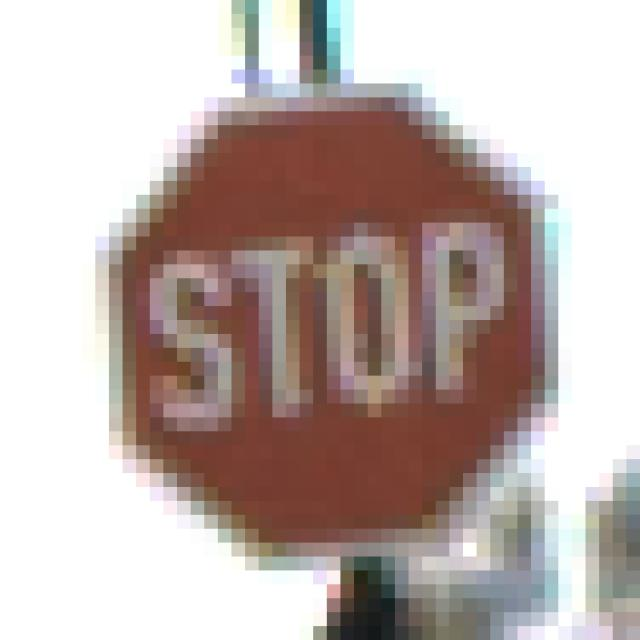STOP: (83, 71, 573, 572)
